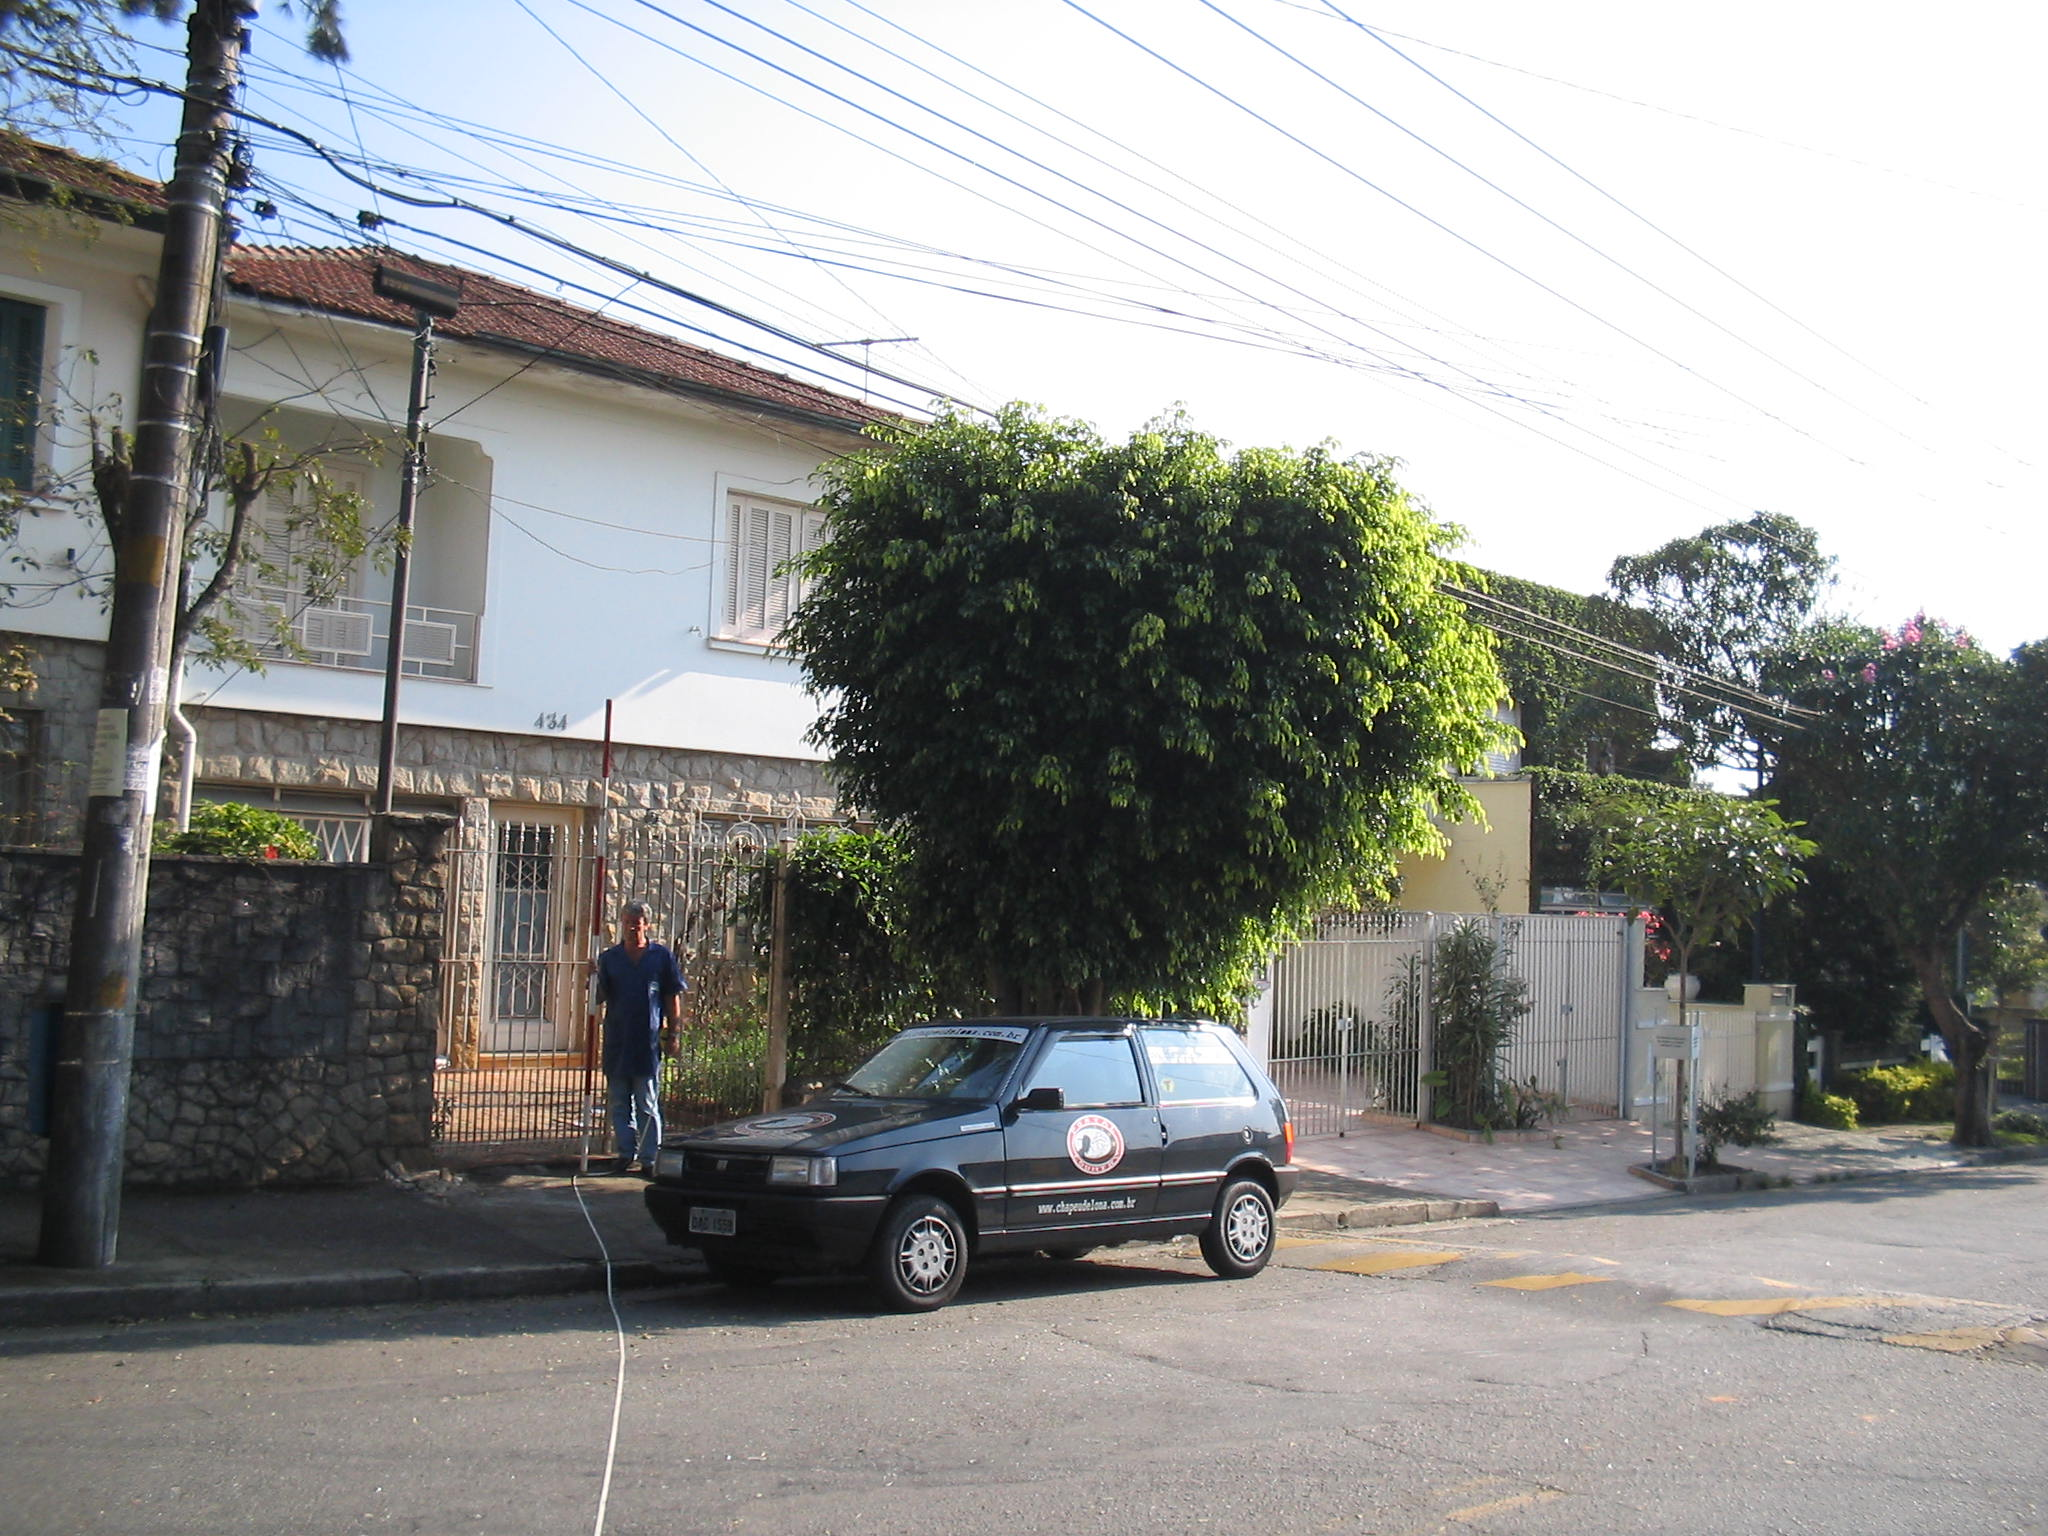crown: (1790, 634, 2038, 954)
stem: (1892, 971, 2021, 1152)
stick: (560, 699, 640, 1176)
tree: (1788, 624, 2043, 1154)
